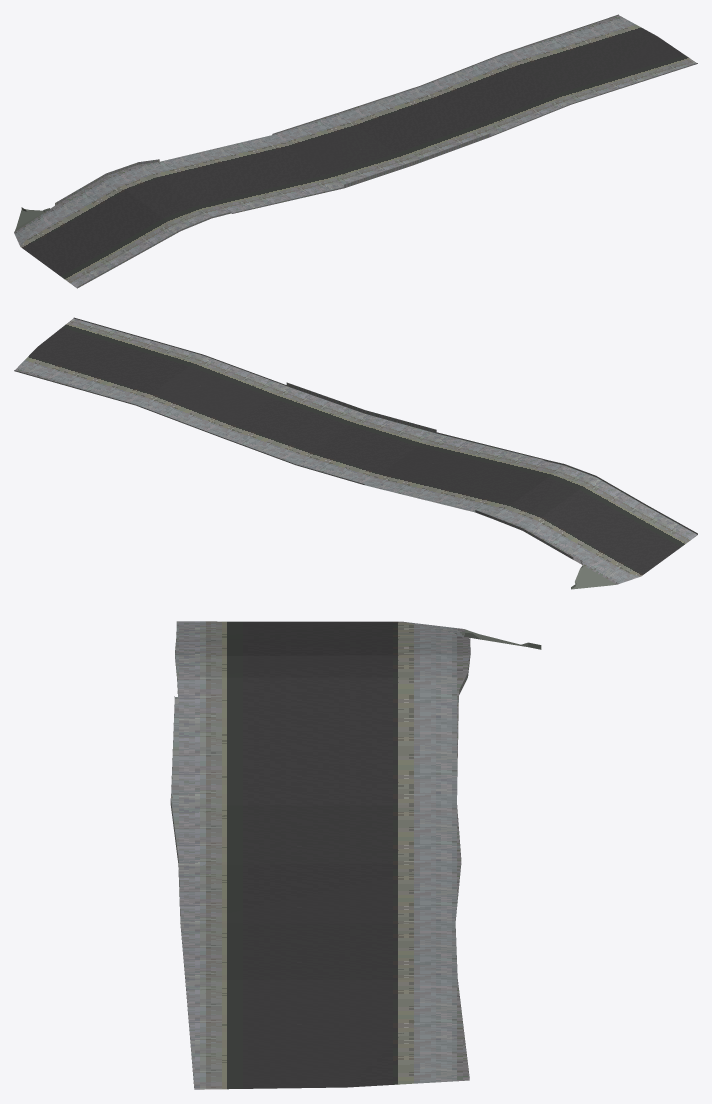
Rendered from lodds25_law2.obj.
3 renders of one model, top to bottom at view 1: azimuth 30°, elevation 25°; view 2: azimuth 150°, elevation 25°; view 3: azimuth 270°, elevation 25°, orthographic. The views are drawn at different scales.
Parts seen in each view (by area): view 1: LODds25_LAw2; view 2: LODds25_LAw2; view 3: LODds25_LAw2.
Boxes of the visible parts, x1,y1,x2,y2 form: LODds25_LAw2: (14, 14, 697, 288); LODds25_LAw2: (14, 317, 697, 589); LODds25_LAw2: (170, 621, 541, 1089).
Size of the model in its own units: 160 by 17.14 by 41.34.
Materials: 1 (1 with a texture image).
